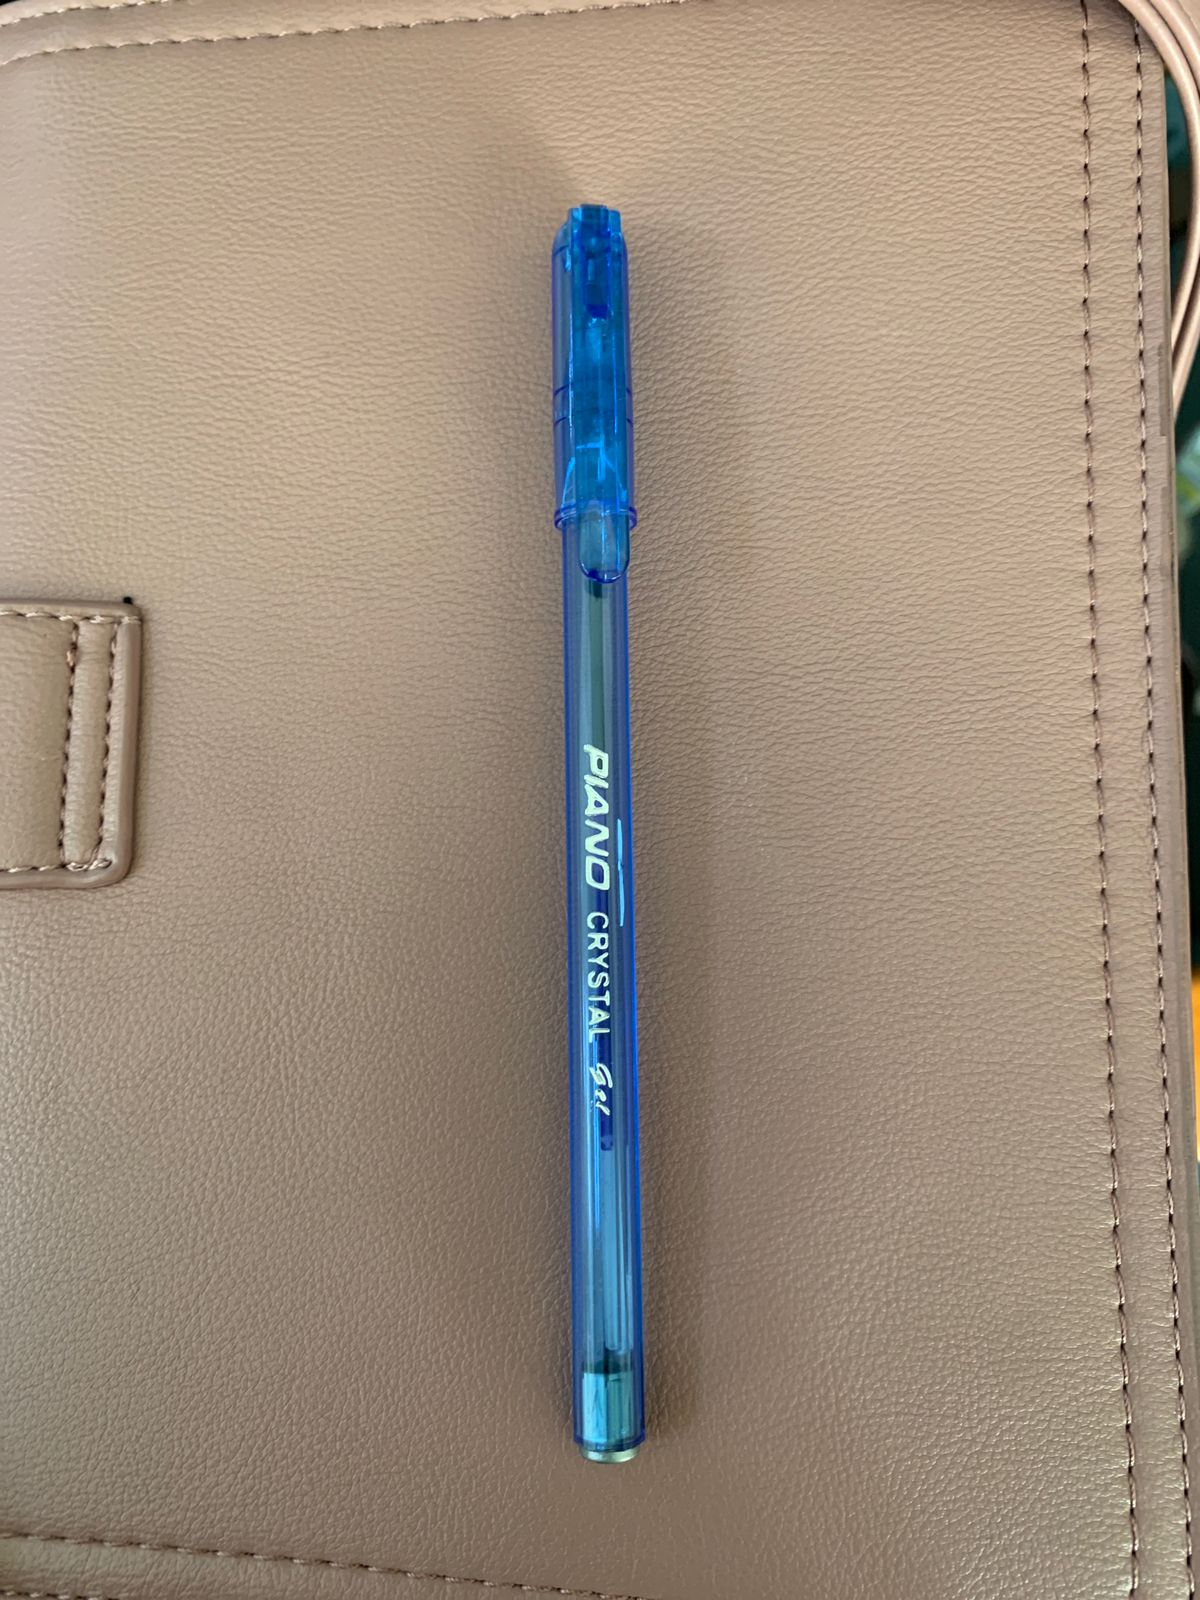pen: (405, 97, 774, 1585)
